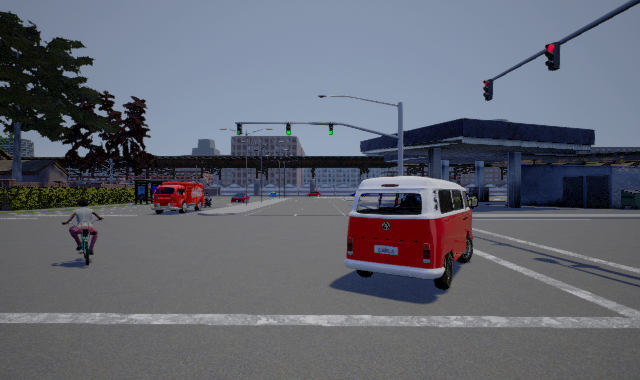bike: (62, 200, 105, 265)
traffic_light: (545, 42, 560, 71), (483, 79, 493, 101), (286, 122, 291, 135), (237, 123, 242, 135), (329, 122, 333, 135)
vehicle: (344, 176, 474, 290), (151, 182, 205, 214), (231, 190, 251, 202)
